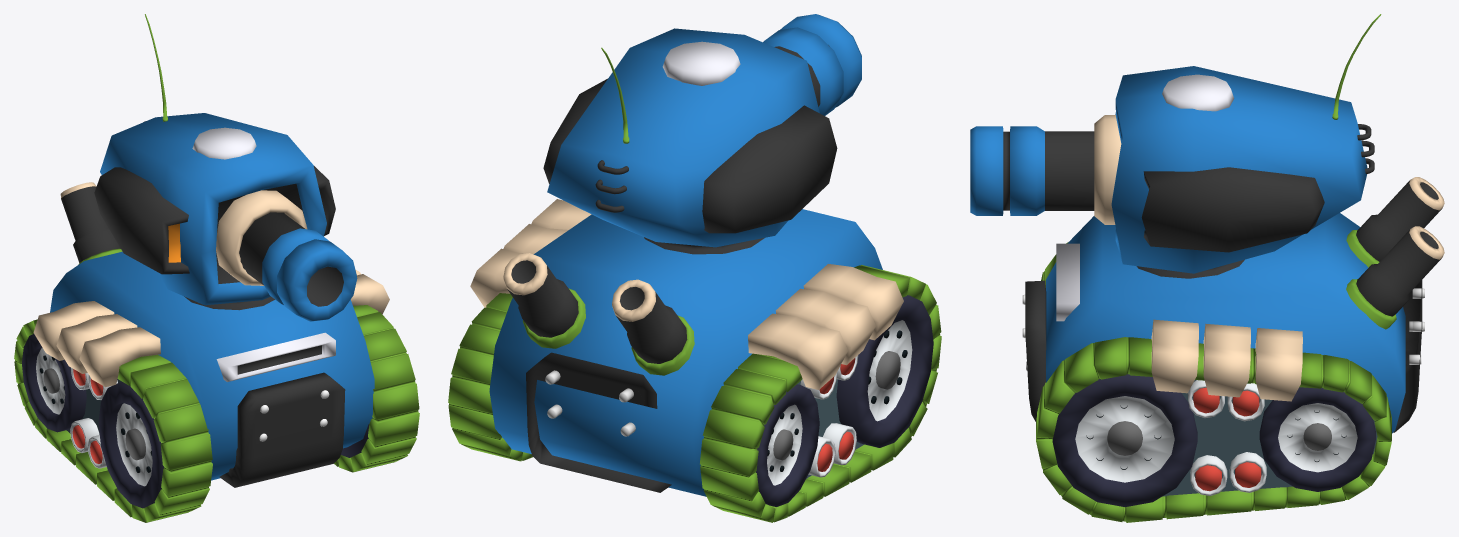
The model's file is Tank10.fbx.
The picture shows the model from 3 angles, left to right: view 1: azimuth 30°, elevation 25°; view 2: azimuth 150°, elevation 25°; view 3: azimuth 270°, elevation 25°; orthographic projection. The views are drawn at different scales.
Parts seen in each view (by area): view 1: Tank10, Tank10.Turret, Tank10.Wheel2, Tank10.Wheel4; view 2: Tank10, Tank10.Turret, Tank10.Wheel2, Tank10.Wheel4; view 3: Tank10, Tank10.Turret, Tank10.Wheel1, Tank10.Wheel3.
Part boxes in pixels (<box>): Tank10: <box>14,182,419,522</box>; Tank10.Turret: <box>94,14,357,321</box>; Tank10.Wheel2: <box>98,382,164,508</box>; Tank10.Wheel4: <box>22,334,86,432</box>; Tank10: <box>448,199,941,522</box>; Tank10.Turret: <box>543,14,861,254</box>; Tank10.Wheel2: <box>836,295,933,447</box>; Tank10.Wheel4: <box>756,384,819,506</box>; Tank10: <box>1022,177,1444,522</box>; Tank10.Turret: <box>970,14,1381,278</box>; Tank10.Wheel1: <box>1052,374,1197,507</box>; Tank10.Wheel3: <box>1259,387,1375,491</box>.
Bounding box in the file's own units: 1.6 × 2.06 × 2.
